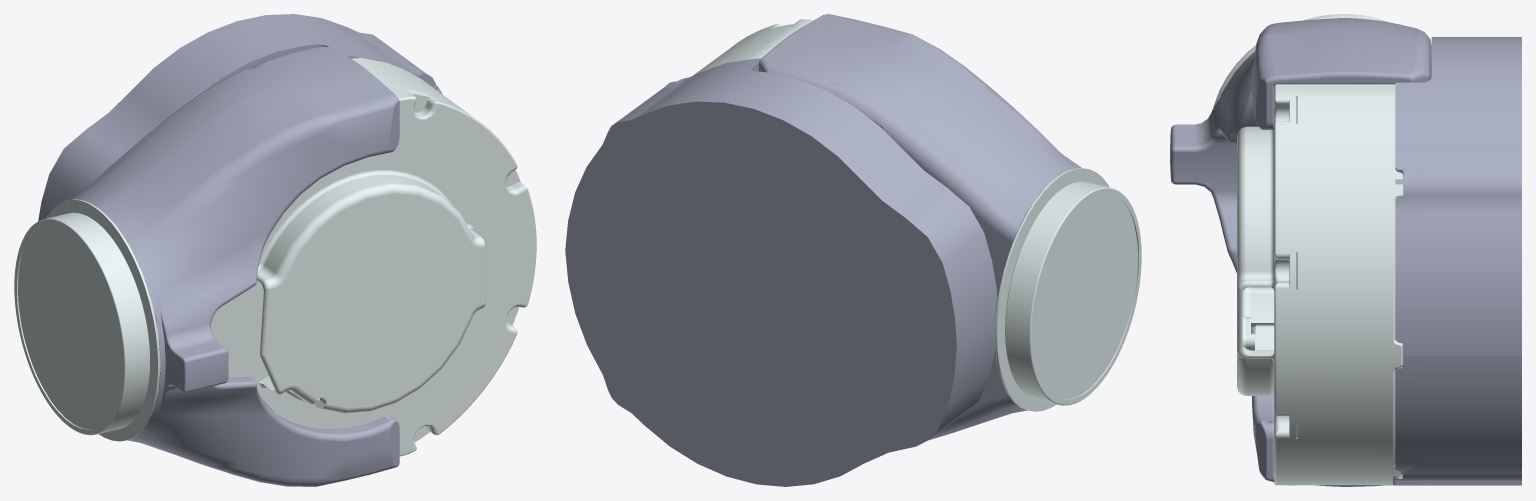
File: hip.obj
The picture shows the model from 3 angles, left to right: view 1: azimuth 30°, elevation 25°; view 2: azimuth 150°, elevation 25°; view 3: azimuth 270°, elevation 25°; orthographic projection. The views are drawn at different scales.
Visible parts, largest first — view 1: hip_008-mesh; view 2: hip_008-mesh; view 3: hip_008-mesh.
Boxes of the visible parts, bbox=[...] form: hip_008-mesh: bbox=[14, 14, 536, 486]; hip_008-mesh: bbox=[565, 14, 1141, 486]; hip_008-mesh: bbox=[1170, 14, 1521, 486].
Size of the model in its own units: 0.1181 by 0.0985 by 0.0756.
